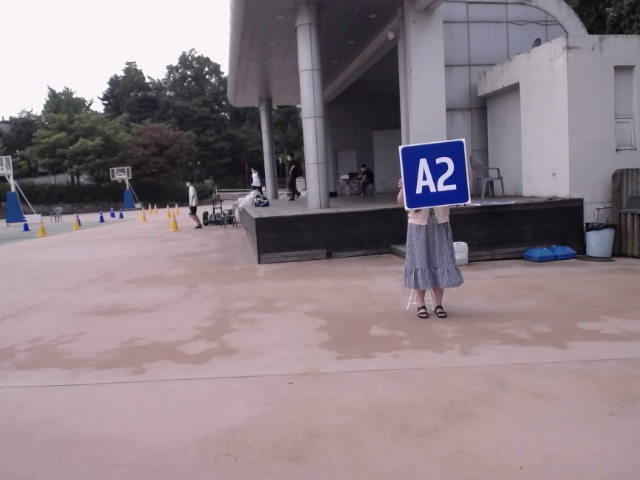delivery_a2: (401, 140, 470, 210)
